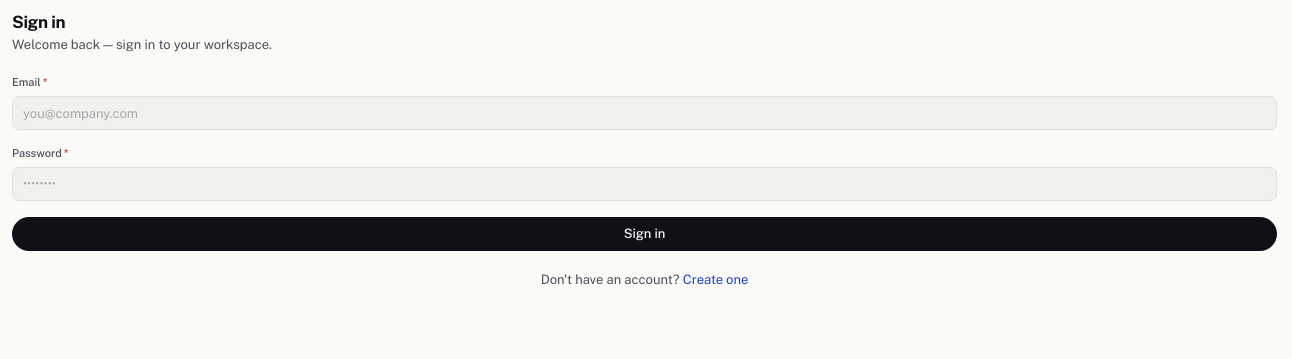
it: LoginPage › surfaces the ApiError message inline on a 401
This screenshot has width=1292, height=359.
Type "user@example.com" into the field labelled "Email*". click: (644, 113)
box: [12,96,1277,130]
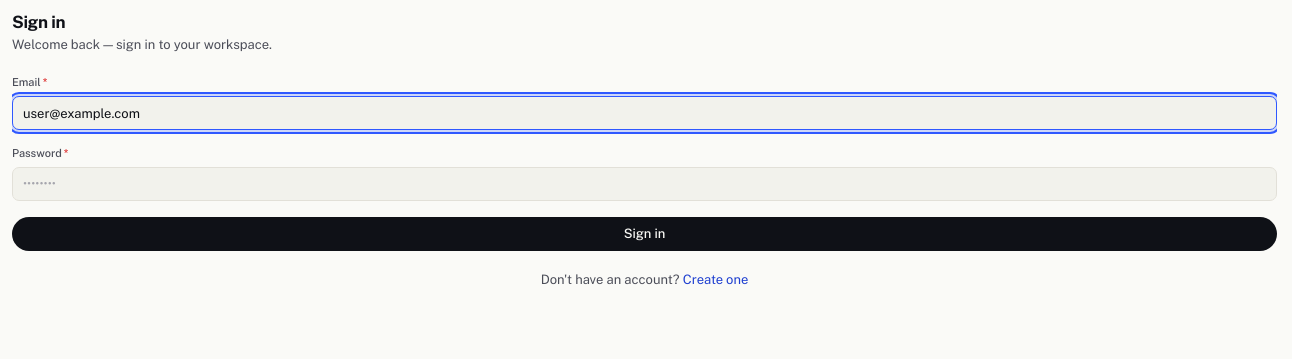
Type "wrongpass" into the password field labelled "Password*". click: (644, 184)
box: [12,167,1277,201]
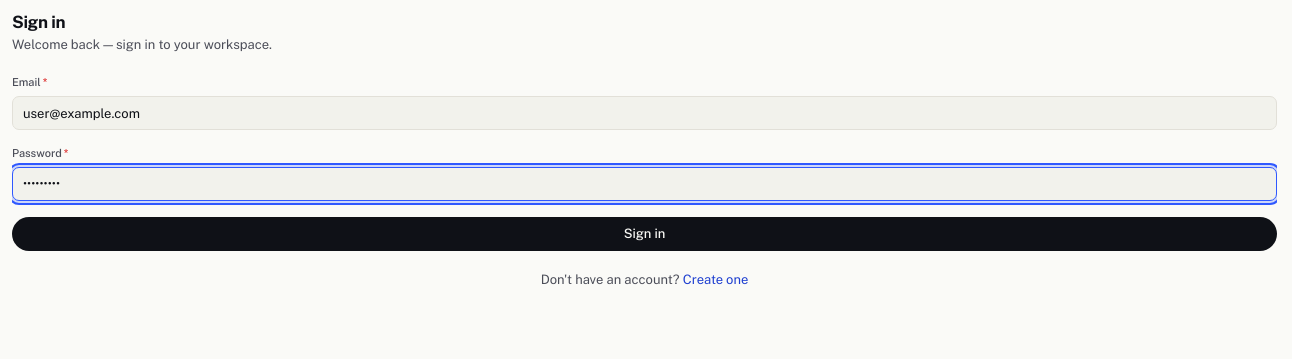
Click the button "Sign in". click: (644, 234)
box: [12,217,1277,251]
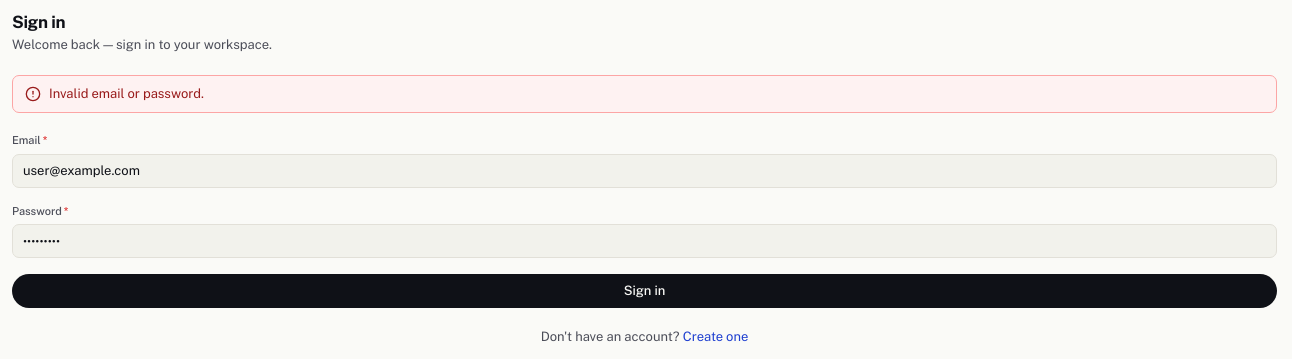
expect the text "Invalid email or password." is shown: met, box [49,84,204,104]
